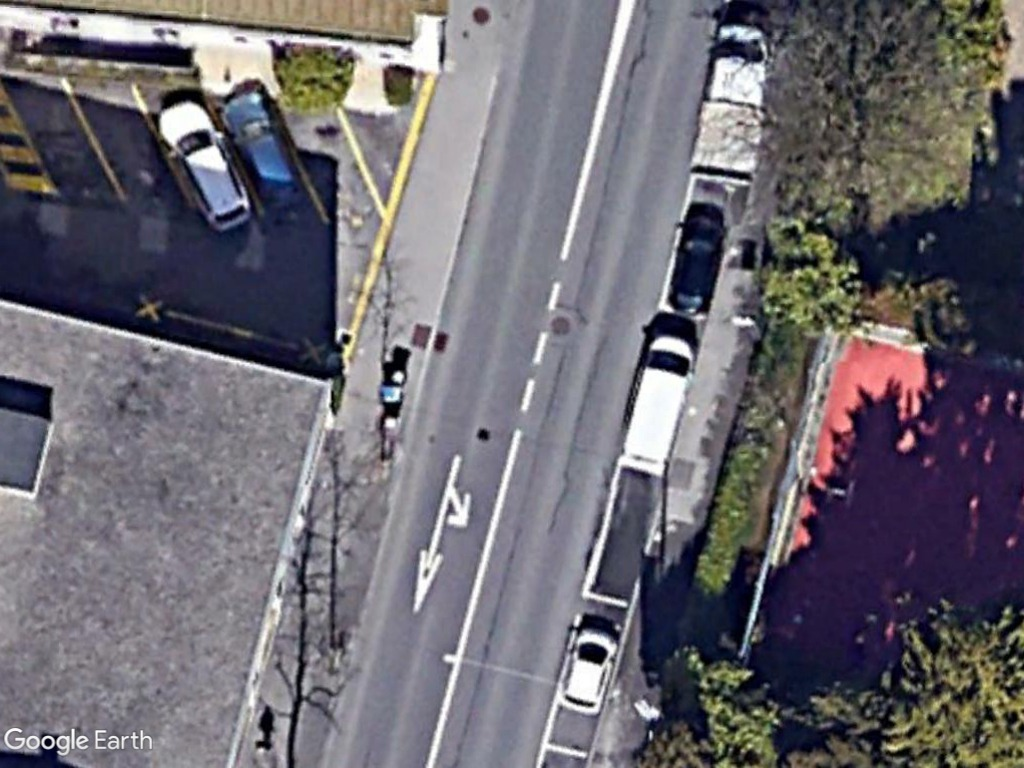car: (150, 96, 256, 231), (222, 89, 312, 216), (668, 211, 730, 320), (557, 623, 621, 719)
van: (616, 331, 701, 476)
